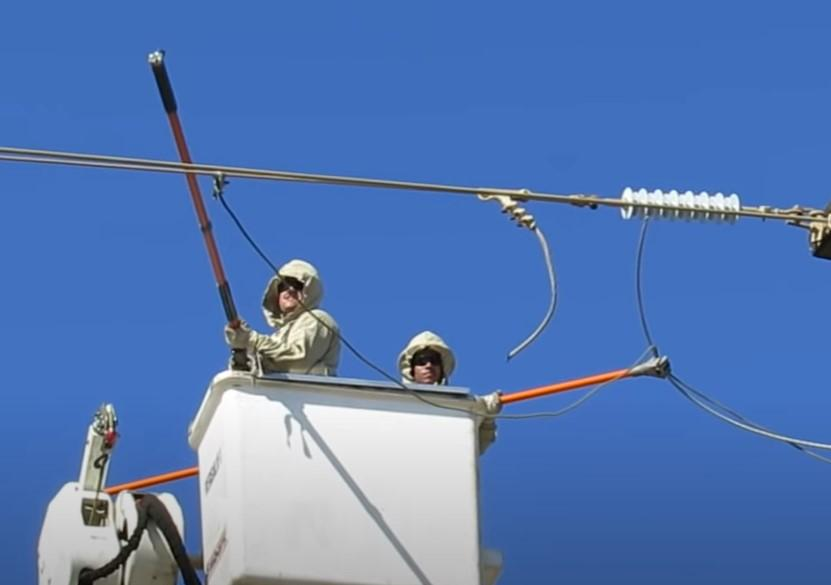Vara_Manobra: (148, 51, 249, 371), (478, 354, 668, 409)
